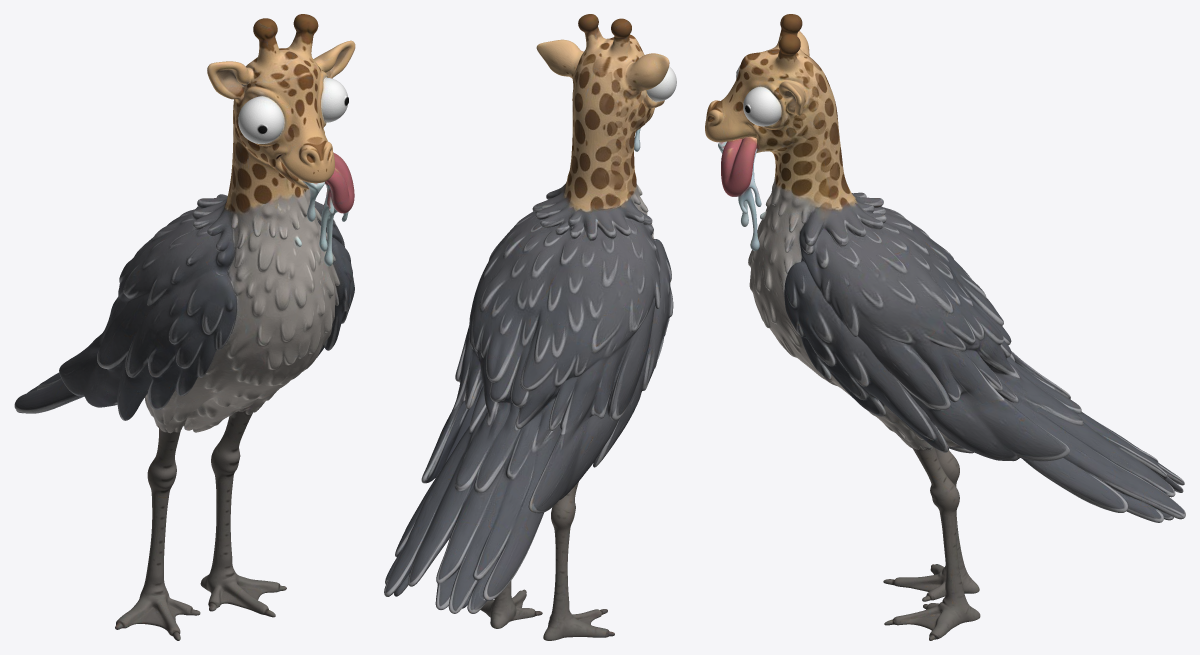
The model's file is marvin.glb.
3 views of the same model, side by side, from view 1: azimuth 30°, elevation 25°; view 2: azimuth 150°, elevation 25°; view 3: azimuth 270°, elevation 25° (orthographic). The views are drawn at different scales.
Size of the model in its own units: 0.6133 by 1.9 by 1.42.
Materials: 1 (1 with a texture image).
